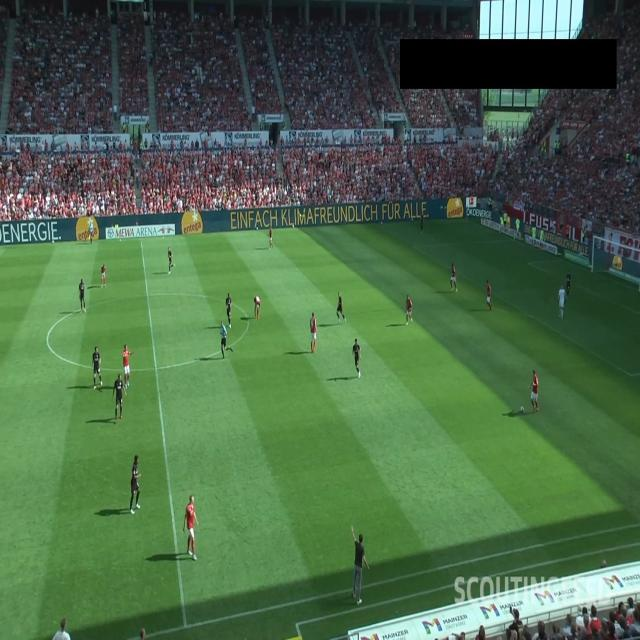ball: (520, 406, 524, 414)
